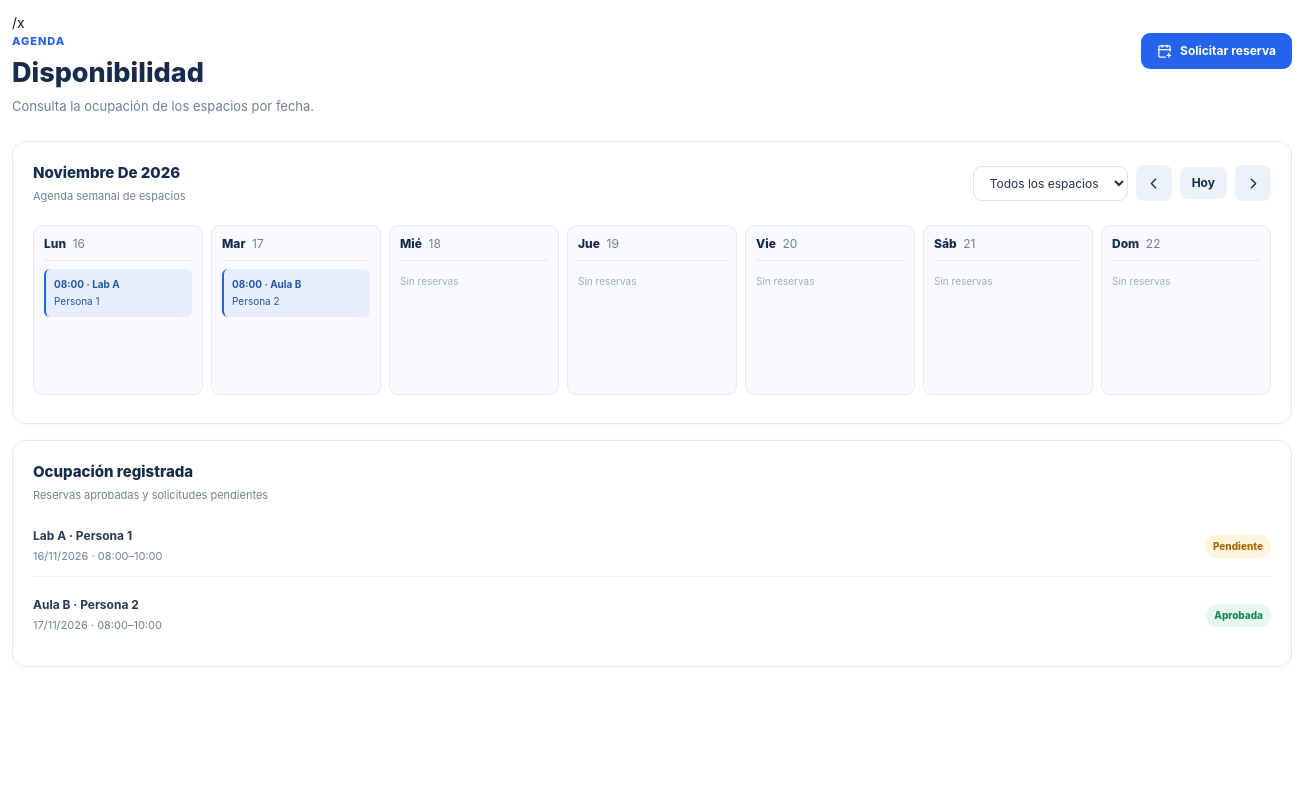
Scenario: AvailabilityPage › "Solicitar reserva" navega a /reservas
Click the button "Solicitar reserva" at [1217, 51], box [1141, 33, 1292, 69]
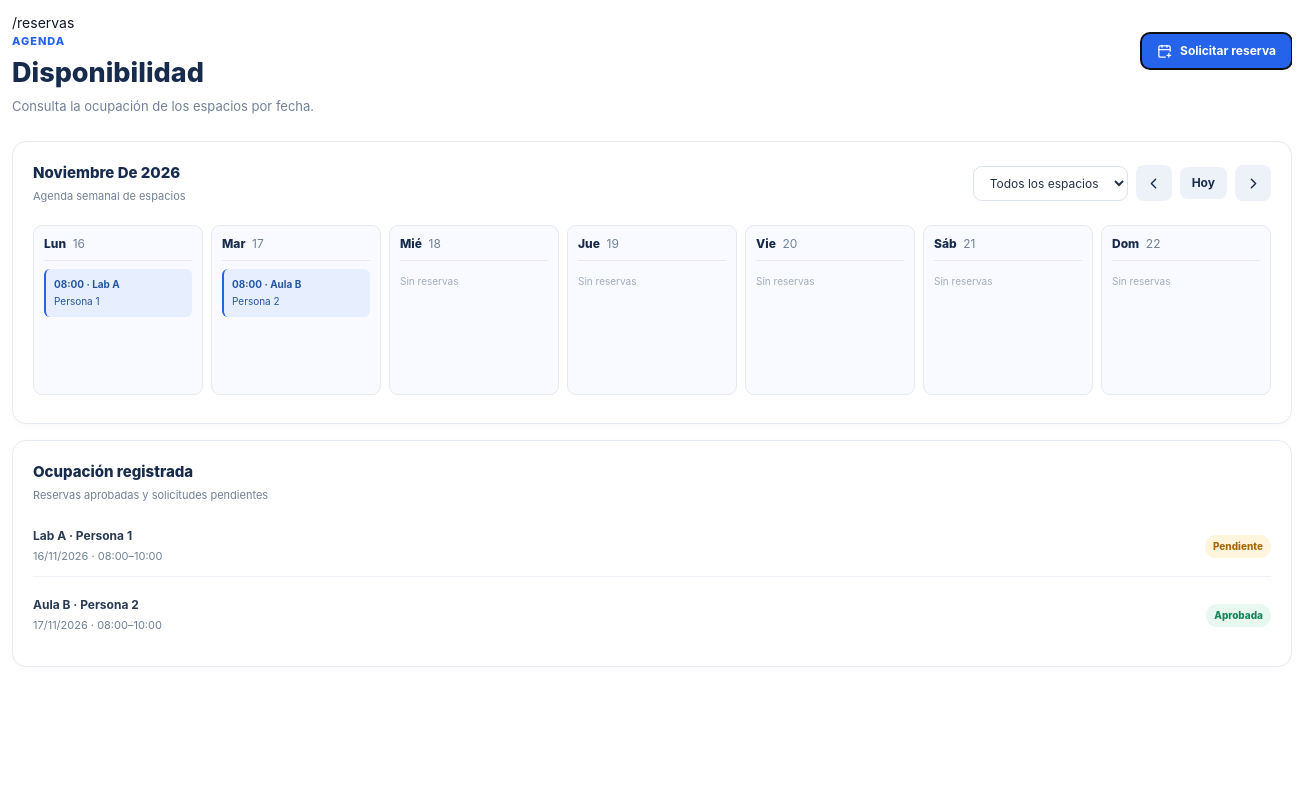
Expected: the text with test id "where" reads "/reservas", [12, 14, 74, 31]
